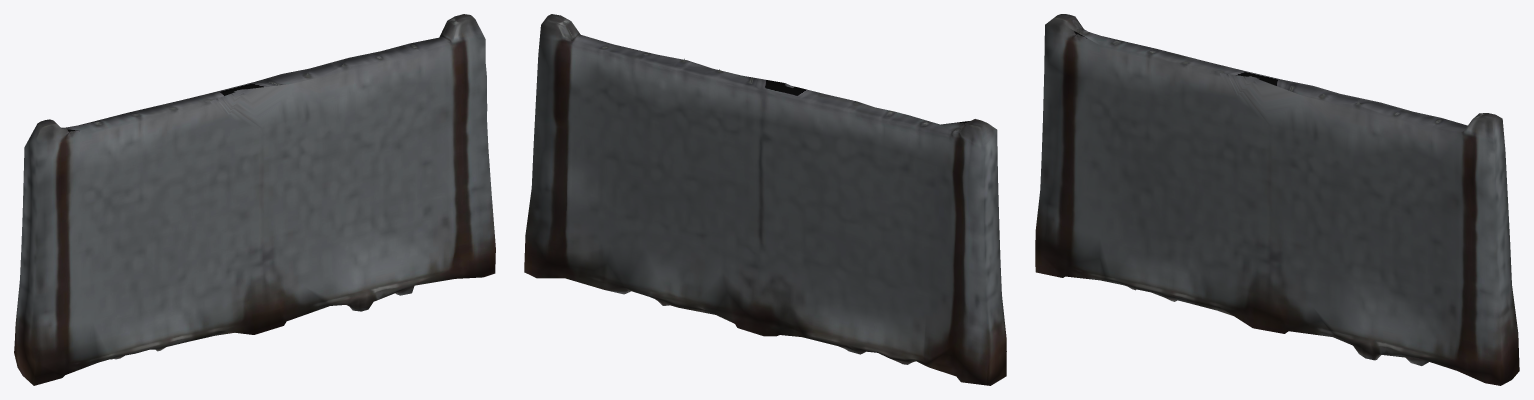
File: 8b853ed480bb_Soviet_era_concrete.fbx
3 views of the same model, side by side, from view 1: azimuth 30°, elevation 25°; view 2: azimuth 150°, elevation 25°; view 3: azimuth 330°, elevation 25° (orthographic).
Parts seen in each view (by area): view 1: mesh; view 2: mesh; view 3: mesh.
Boxes of the visible parts, x1=… form: mesh: x1=14, y1=14, x2=495, y2=385; mesh: x1=524, y1=14, x2=1006, y2=385; mesh: x1=1035, y1=14, x2=1519, y2=385.
Size of the model in its own units: 5.18 by 0.4333 by 2.8.
Materials: 1 (1 with a texture image).
